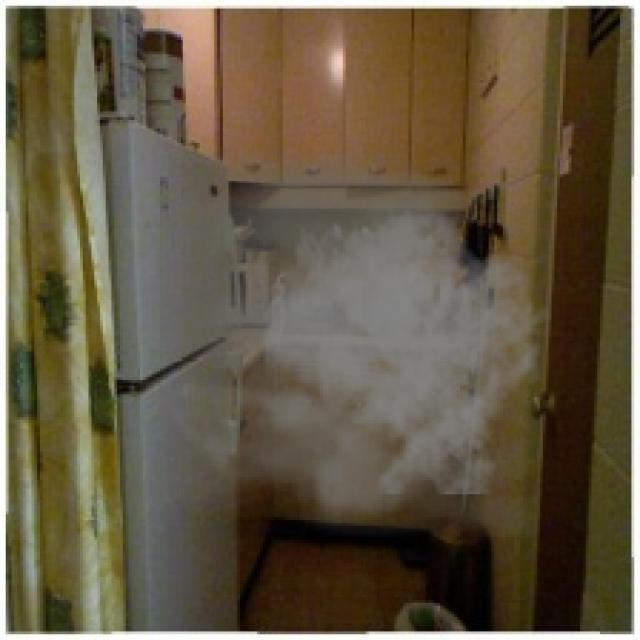Smoke: (159, 148, 552, 538)
